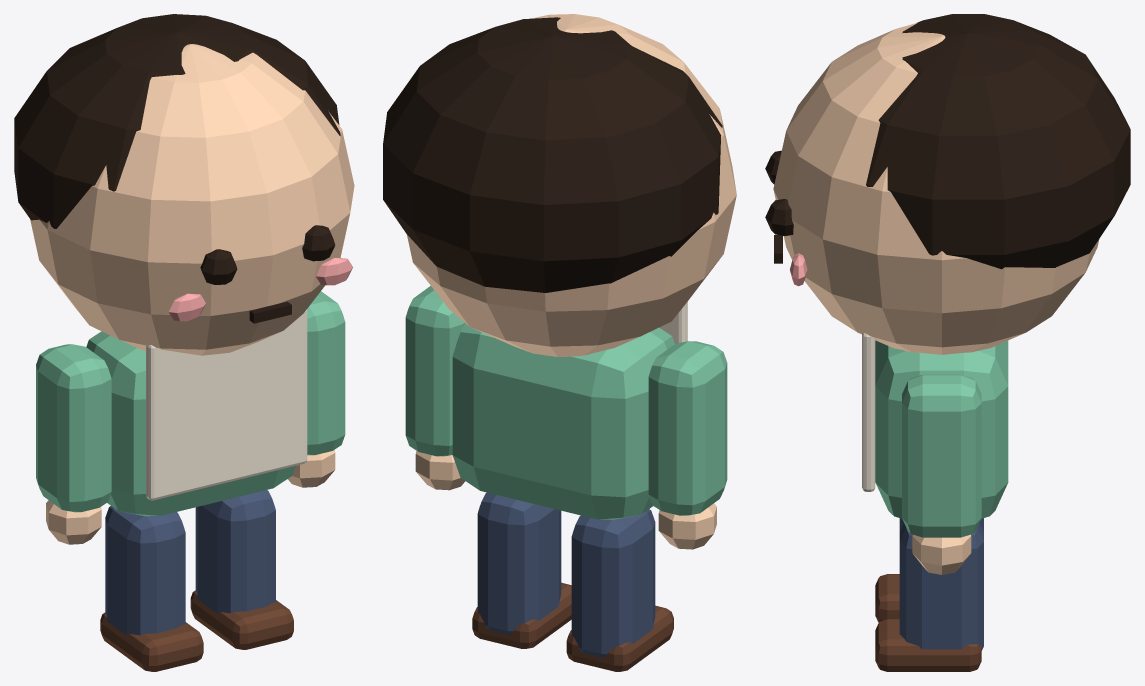
The model's file is kar_penjaga_warteg.fbx.
The picture shows the model from 3 angles, left to right: view 1: azimuth 30°, elevation 25°; view 2: azimuth 150°, elevation 25°; view 3: azimuth 270°, elevation 25°; orthographic projection. The views are drawn at different scales.
Parts seen in each view (by area): view 1: kar_penjaga_warteg; view 2: kar_penjaga_warteg; view 3: kar_penjaga_warteg.
Part boxes in pixels (<box>): kar_penjaga_warteg: <box>14,14,354,671</box>; kar_penjaga_warteg: <box>383,14,736,671</box>; kar_penjaga_warteg: <box>765,14,1130,671</box>.
Bounding box in the file's own units: 76 × 151 × 82.44.
Materials: 1 (1 with a texture image).
